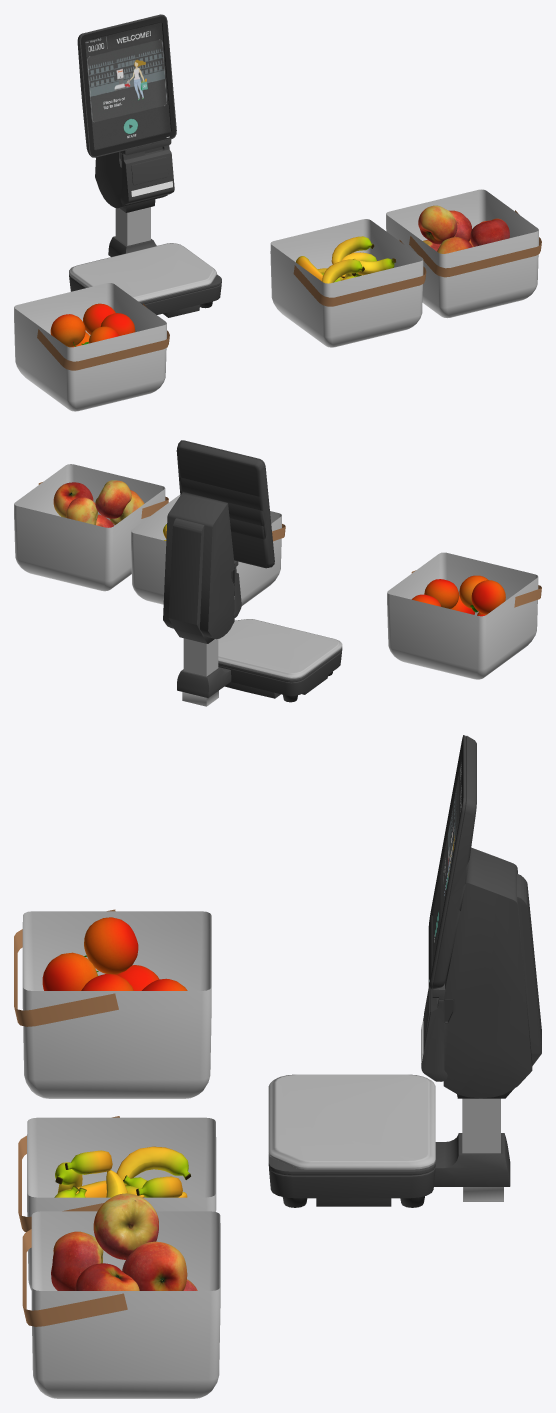
Rendered from weighing machine.gltf.
The picture shows the model from 3 angles, top to bottom: view 1: azimuth 30°, elevation 25°; view 2: azimuth 150°, elevation 25°; view 3: azimuth 270°, elevation 25°; orthographic projection. The views are drawn at different scales.
Parts seen in each view (by area): view 1: bananasBag, bananasBag.004, bananasBag.002, screen, Cube.008, display, Cube, Cube.001, Cube.005, bananasBag.001, bananasBag.005, bananasBag.003 (+10 smaller); view 2: bananasBag.004, bananasBag.002, display, Cube.005, Cube.008, bananasBag, Cube.006, Cube.001, Cube.003, Cube.004, 2v apple004, Orange.013 (+5 smaller); view 3: bananasBag.004, bananasBag.002, Cube.005, Cube.008, bananasBag, Cube.001, display, Cube.003, 2v apple004, 2v apple007, Orange.013, Cube.006 (+12 smaller).
Boxes of the visible parts, box(x1,y1,x2,y2) form: bananasBag: box(270, 219, 423, 347); bananasBag.004: box(14, 283, 166, 411); bananasBag.002: box(386, 189, 538, 318); screen: box(85, 22, 170, 149); Cube.008: box(69, 243, 216, 301); display: box(77, 14, 176, 157); Cube: box(120, 139, 174, 205); Cube.001: box(69, 274, 221, 317); Cube.005: box(95, 146, 167, 208); bananasBag.001: box(293, 240, 426, 306); bananasBag.005: box(37, 303, 169, 370); bananasBag.003: box(409, 210, 541, 277); bananasBag.004: box(387, 552, 538, 679); bananasBag.002: box(14, 464, 165, 591); display: box(176, 440, 274, 568); Cube.005: box(163, 492, 234, 639); Cube.008: box(218, 619, 342, 678); bananasBag: box(131, 494, 281, 605); Cube.006: box(168, 518, 214, 643); Cube.001: box(218, 648, 342, 702); Cube.003: box(177, 667, 231, 706); Cube.004: box(183, 638, 218, 676); 2v apple004: box(95, 480, 131, 518); Orange.013: box(471, 580, 505, 614); bananasBag.004: box(22, 911, 211, 1098); bananasBag.002: box(31, 1211, 220, 1398); Cube.005: box(443, 847, 532, 1098); Cube.008: box(268, 1074, 435, 1169); bananasBag: box(27, 1117, 216, 1290); Cube.001: box(268, 1154, 435, 1207); display: box(428, 735, 476, 989); Cube.003: box(434, 1133, 510, 1201); 2v apple004: box(93, 1193, 158, 1259); 2v apple007: box(122, 1241, 187, 1290); Orange.013: box(84, 917, 138, 974); Cube.006: box(457, 874, 541, 1098).
Bounding box in the file's own units: 1.87 × 0.9363 × 1.08.
Materials: 23 (12 with a texture image).
